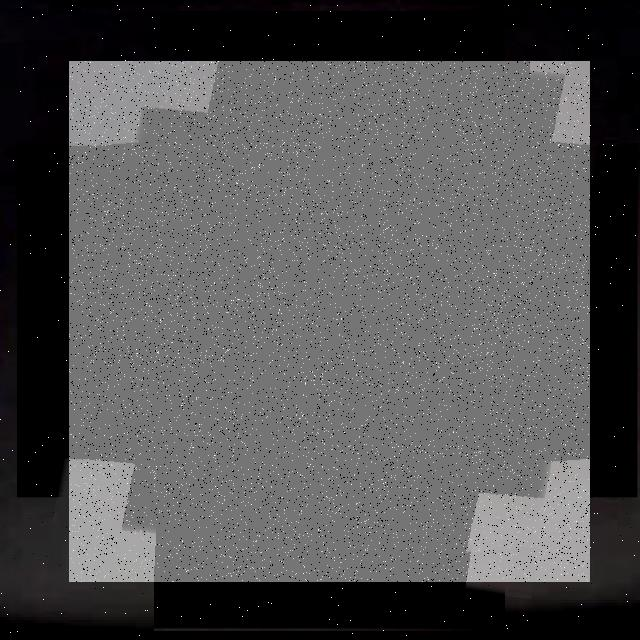dua puluh ribu rupiah: (69, 61, 590, 582)
